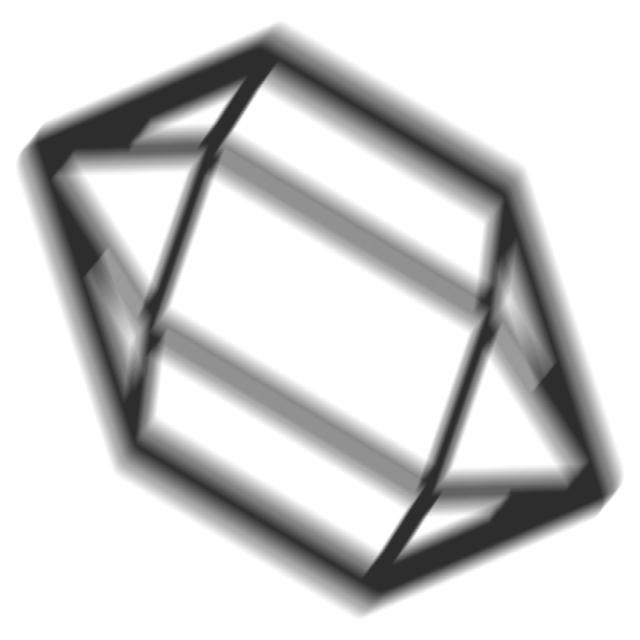crystal: (8, 13, 640, 629)
